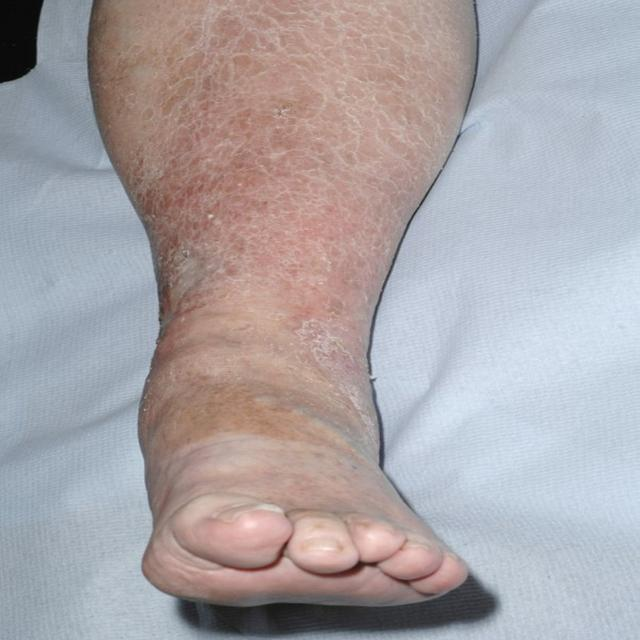wound: (145, 215, 243, 331)
